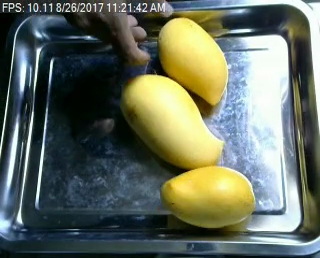Mango: (119, 72, 221, 166), (157, 15, 227, 102), (162, 168, 254, 229)
